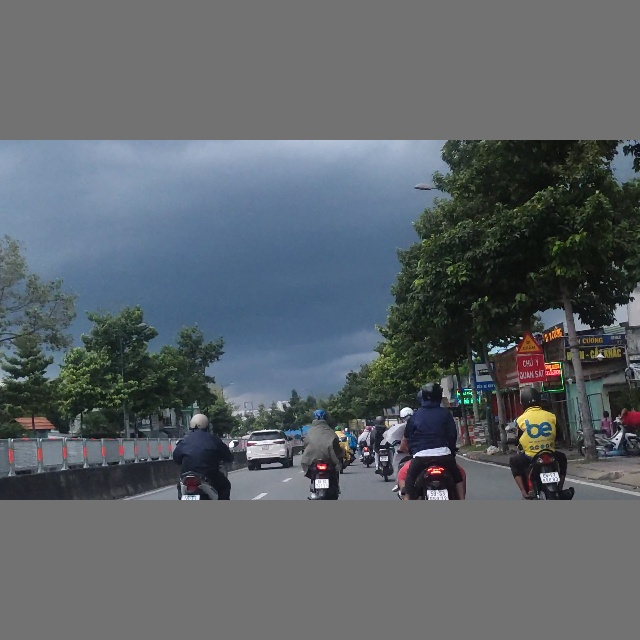I.434a: (473, 361, 497, 391)
W.245a: (516, 331, 541, 354)
